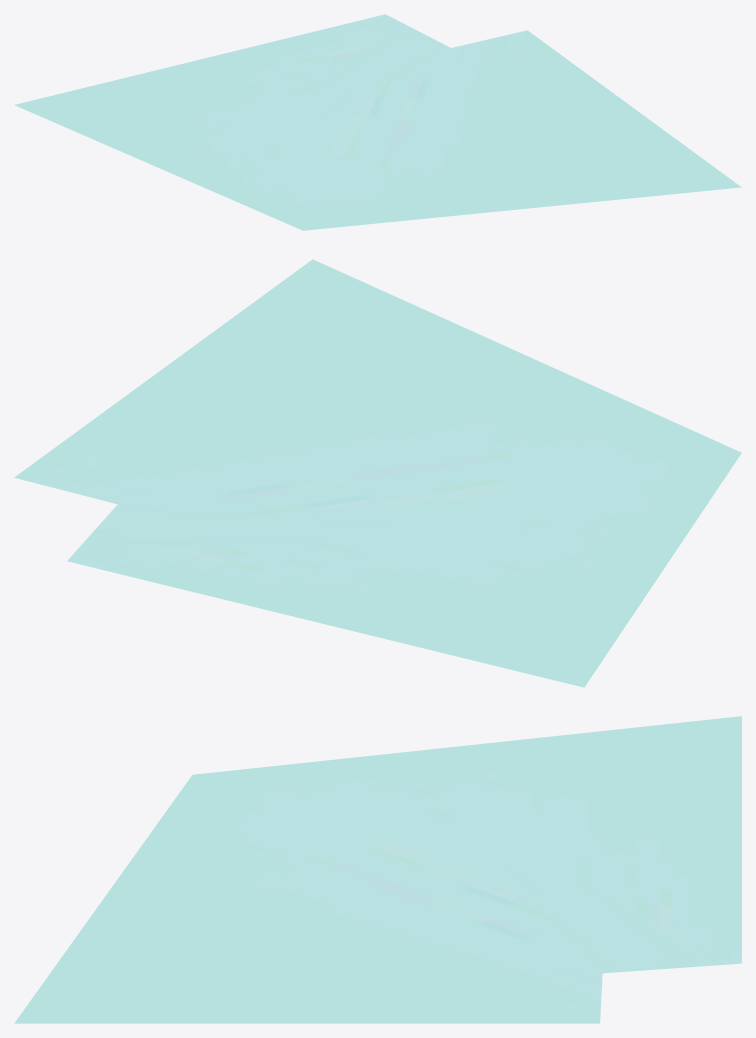
The model's file is wavewallconvex.fbx.
The picture shows the model from 3 angles, top to bottom: view 1: azimuth 30°, elevation 25°; view 2: azimuth 150°, elevation 25°; view 3: azimuth 270°, elevation 25°; orthographic projection. The views are drawn at different scales.
Parts seen in each view (by area): view 1: sunken_tileset/sunken_wave; view 2: sunken_tileset/sunken_wave; view 3: sunken_tileset/sunken_wave.
Part boxes in pixels (x1,y1,x2,y2): sunken_tileset/sunken_wave: (14, 14, 741, 230); sunken_tileset/sunken_wave: (14, 259, 741, 687); sunken_tileset/sunken_wave: (14, 716, 741, 1023).
Size of the model in its own units: 1.59 by 0.000526 by 1.59.
